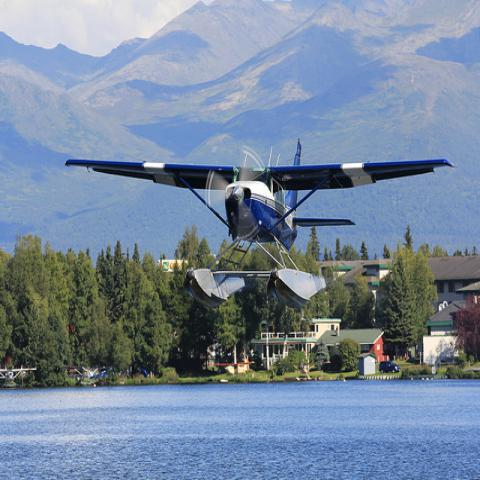car: (433, 355, 460, 372), (379, 360, 401, 374)
